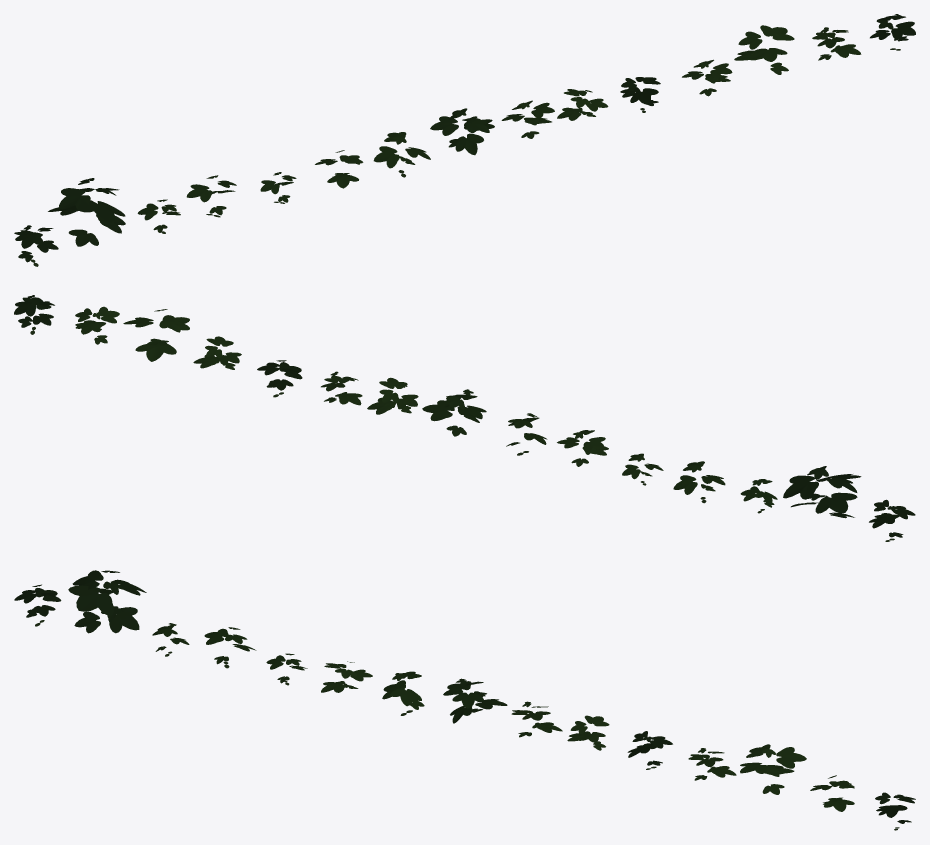
File: ROW_04_SEG3_foliage.dae
3 views of the same model, one above another, from view 1: azimuth 30°, elevation 25°; view 2: azimuth 150°, elevation 25°; view 3: azimuth 330°, elevation 25° (orthographic).
Parts seen in each view (by area): view 1: ROW_04_SEG3_foliage; view 2: ROW_04_SEG3_foliage; view 3: ROW_04_SEG3_foliage.
Boxes of the visible parts, box(x1,y1,x2,y2) form: ROW_04_SEG3_foliage: box(14, 14, 915, 266); ROW_04_SEG3_foliage: box(14, 295, 915, 541); ROW_04_SEG3_foliage: box(14, 570, 915, 830).
Size of the model in its own units: 4.46 by 0.3476 by 0.3029.
